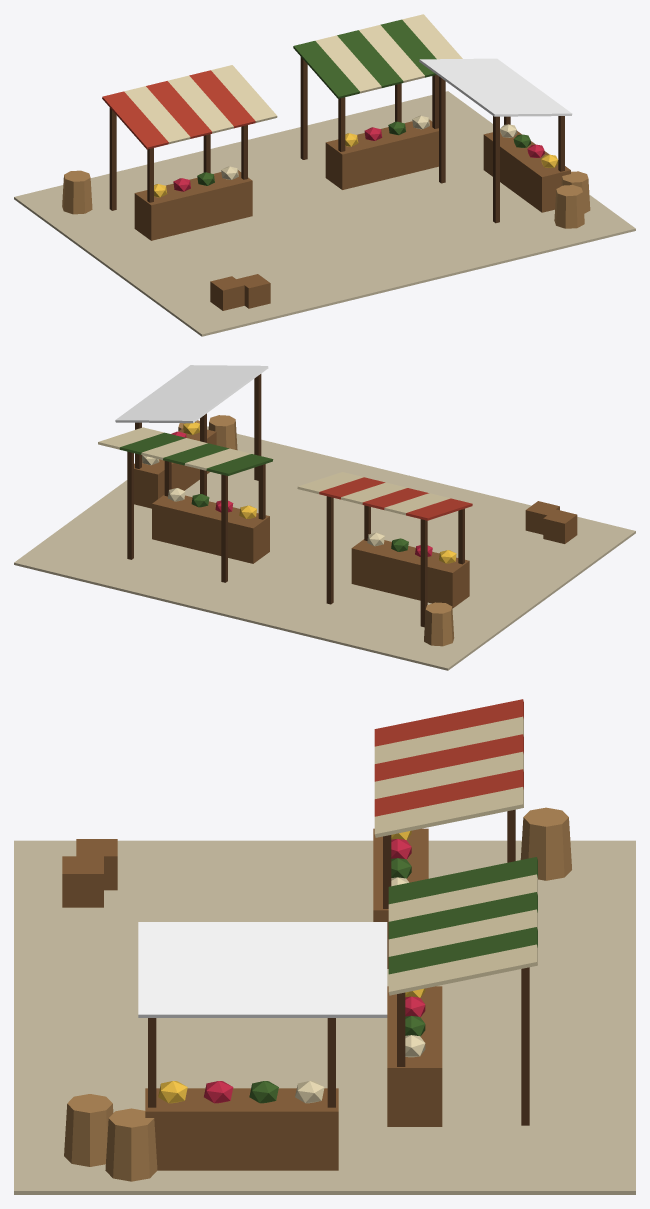
File: building_market_1.glb
3 renders of one model, top to bottom at view 1: azimuth 30°, elevation 25°; view 2: azimuth 150°, elevation 25°; view 3: azimuth 270°, elevation 25°, orthographic. The views are drawn at different scales.
Visible parts, largest first — view 1: building_market_1; view 2: building_market_1; view 3: building_market_1.
Part boxes in pixels (x1,y1,x2,y2): building_market_1: (14, 14, 635, 336); building_market_1: (14, 365, 635, 670); building_market_1: (14, 699, 635, 1194).
Bounding box in the file's own units: 12 × 3.02 × 9.
